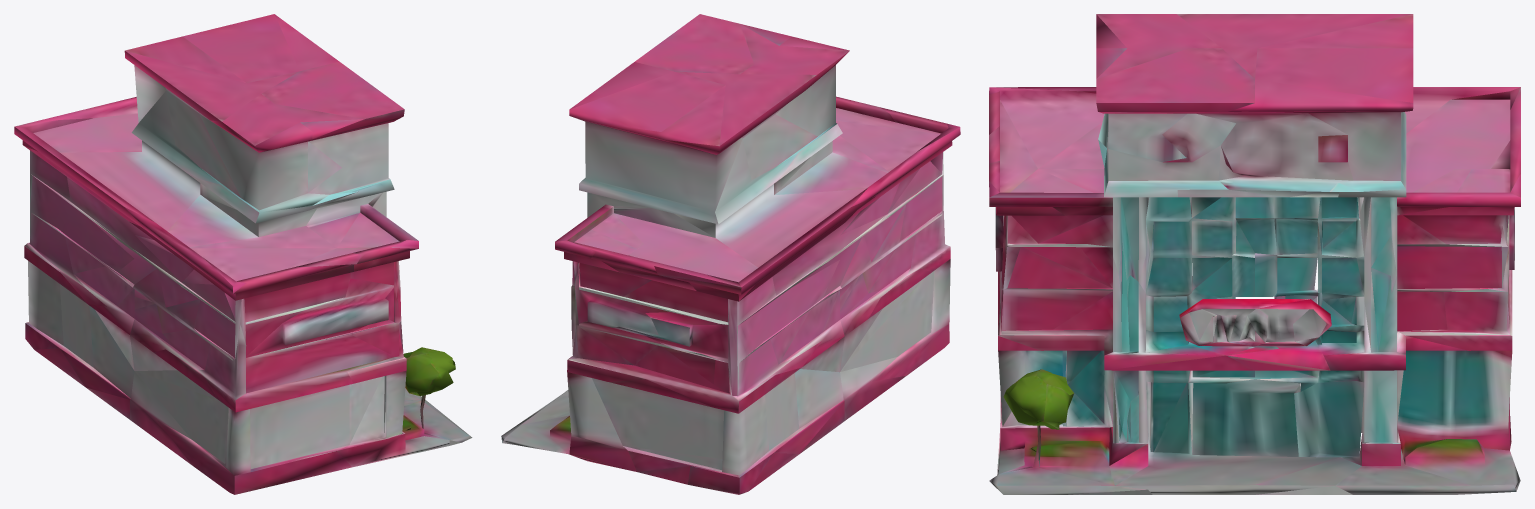
Rendered from mall_lod2.glb.
The picture shows the model from 3 angles, left to right: view 1: azimuth 30°, elevation 25°; view 2: azimuth 150°, elevation 25°; view 3: azimuth 270°, elevation 25°; orthographic projection. The views are drawn at different scales.
Parts seen in each view (by area): view 1: tripo_node_b8ebec38; view 2: tripo_node_b8ebec38; view 3: tripo_node_b8ebec38.
Part boxes in pixels (<box>): tripo_node_b8ebec38: <box>14,14,472,494</box>; tripo_node_b8ebec38: <box>501,14,960,494</box>; tripo_node_b8ebec38: <box>989,14,1520,494</box>.
Bounding box in the file's own units: 64.9 × 77.67 × 99.99.
1 material, 1 textured.
